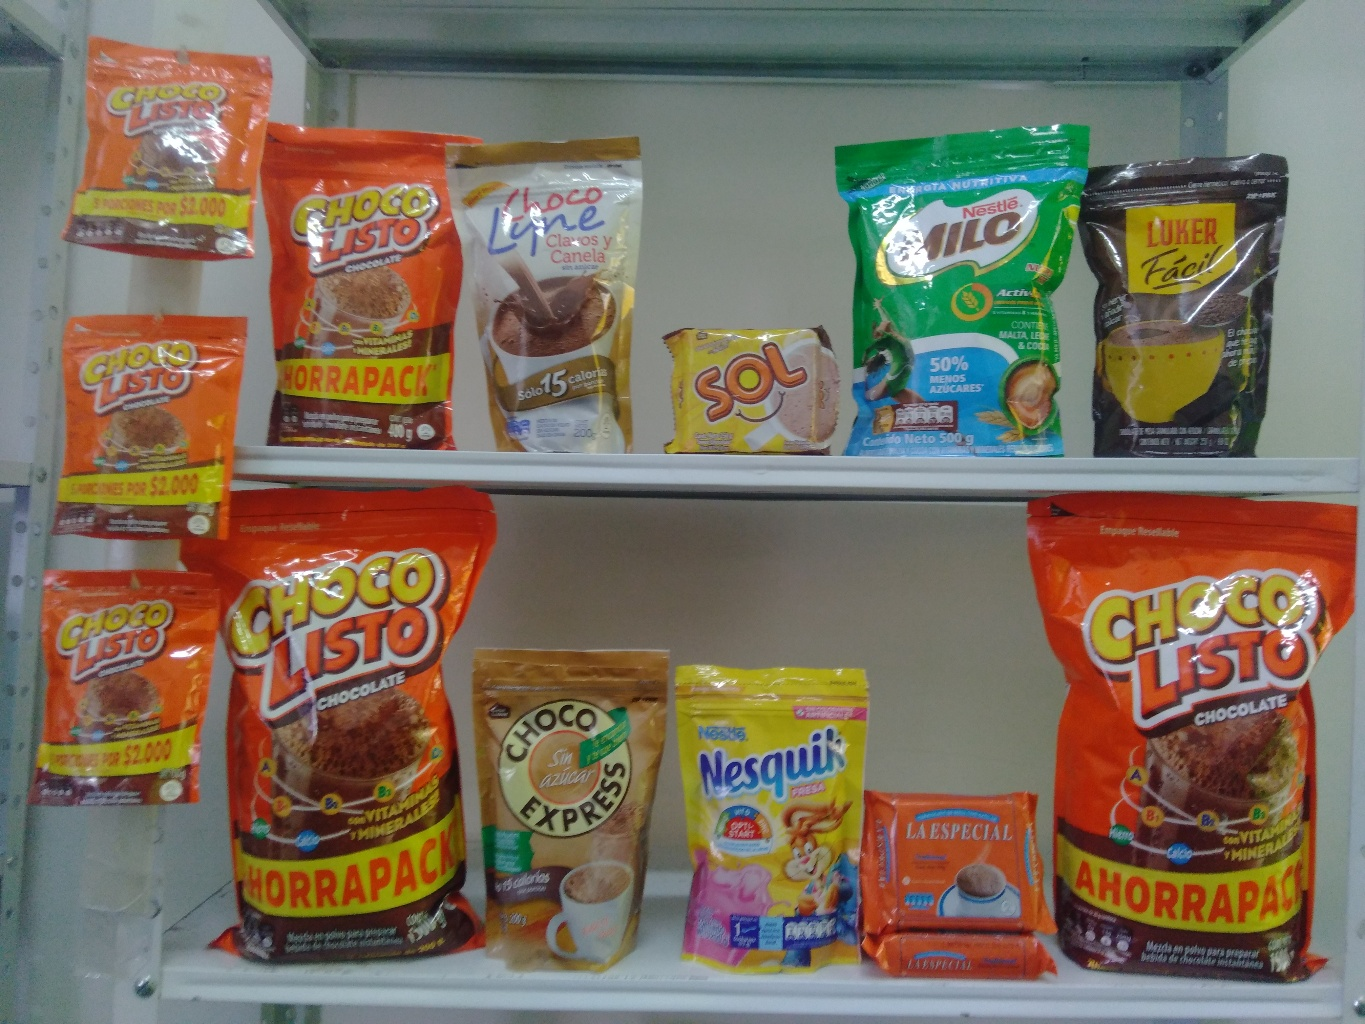COL0170103DYP1,500: (1027, 490, 1359, 989)
COL0170103DYP10000: (33, 565, 216, 806)
COL0170103DYP40000: (255, 115, 485, 437)
COL0170205DYP50000: (825, 112, 1108, 459)
COL0170305DYP20000: (671, 657, 875, 989)
